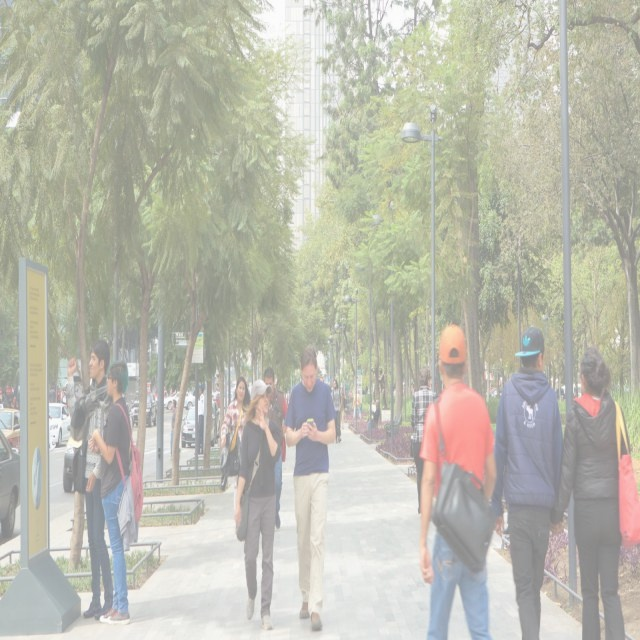pessoa: (546, 339, 640, 639), (416, 323, 499, 639), (488, 322, 564, 640), (283, 343, 337, 633), (88, 358, 144, 626), (67, 338, 114, 621), (232, 378, 284, 632), (219, 374, 252, 534), (410, 364, 439, 516), (264, 365, 288, 530), (370, 364, 388, 409), (194, 382, 204, 456), (169, 398, 181, 459), (332, 378, 342, 444), (368, 398, 381, 432), (484, 375, 502, 399), (612, 378, 634, 396), (352, 389, 362, 422), (1, 392, 20, 409), (339, 387, 346, 430), (153, 386, 182, 396), (402, 382, 416, 396), (429, 376, 440, 391), (49, 385, 56, 403), (193, 382, 204, 392), (328, 384, 334, 402), (61, 390, 68, 404), (342, 394, 348, 410), (60, 386, 64, 404), (550, 378, 556, 390), (123, 390, 128, 404), (58, 387, 62, 404), (320, 374, 326, 382), (349, 391, 352, 404), (48, 414, 52, 421), (64, 386, 66, 391)
